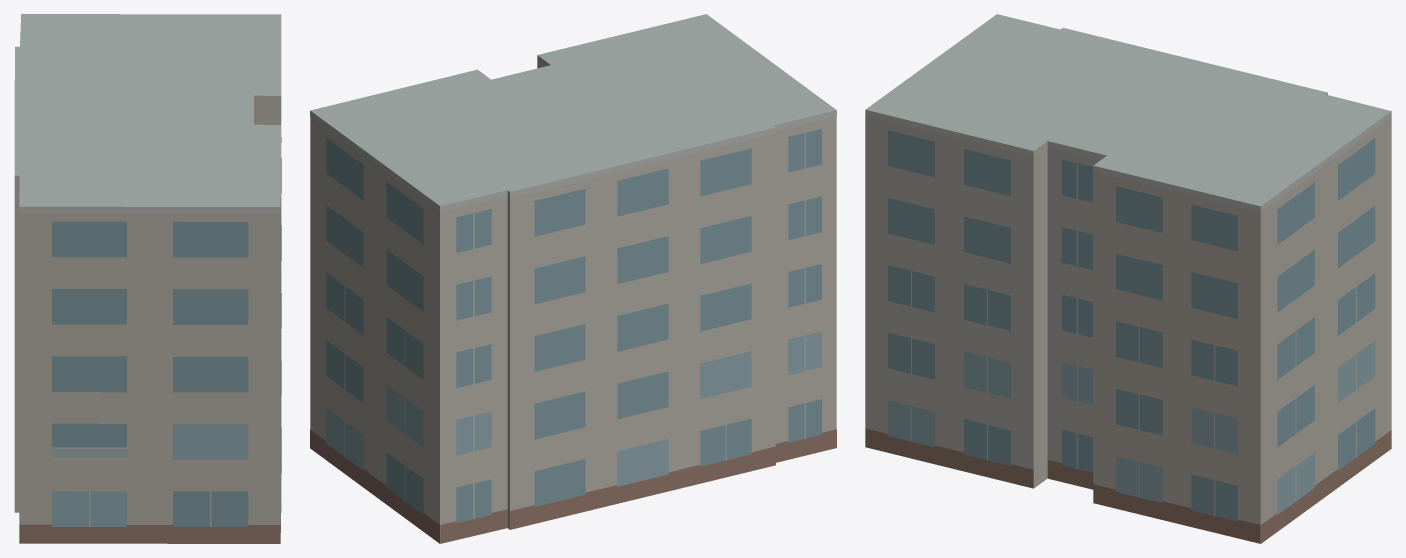
The model's file is survey-upis-32972258.glb.
3 views of the same model, side by side, from view 1: azimuth 30°, elevation 25°; view 2: azimuth 150°, elevation 25°; view 3: azimuth 270°, elevation 25° (orthographic).
Parts seen in each view (by area): view 1: survey-upis-32972258.tmp; view 2: survey-upis-32972258.tmp; view 3: survey-upis-32972258.tmp.
Part boxes in pixels (x1,y1,x2,y2): survey-upis-32972258.tmp: (14,14,281,543); survey-upis-32972258.tmp: (310,14,836,543); survey-upis-32972258.tmp: (865,14,1391,543).
Size of the model in its own units: 16.63 by 13.6 by 19.23.
